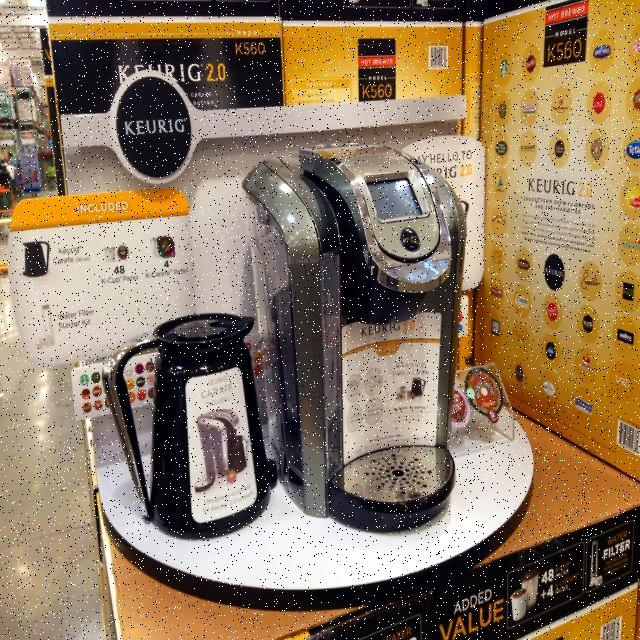Coffee-Machine: (262, 132, 500, 532), (104, 296, 276, 546)
